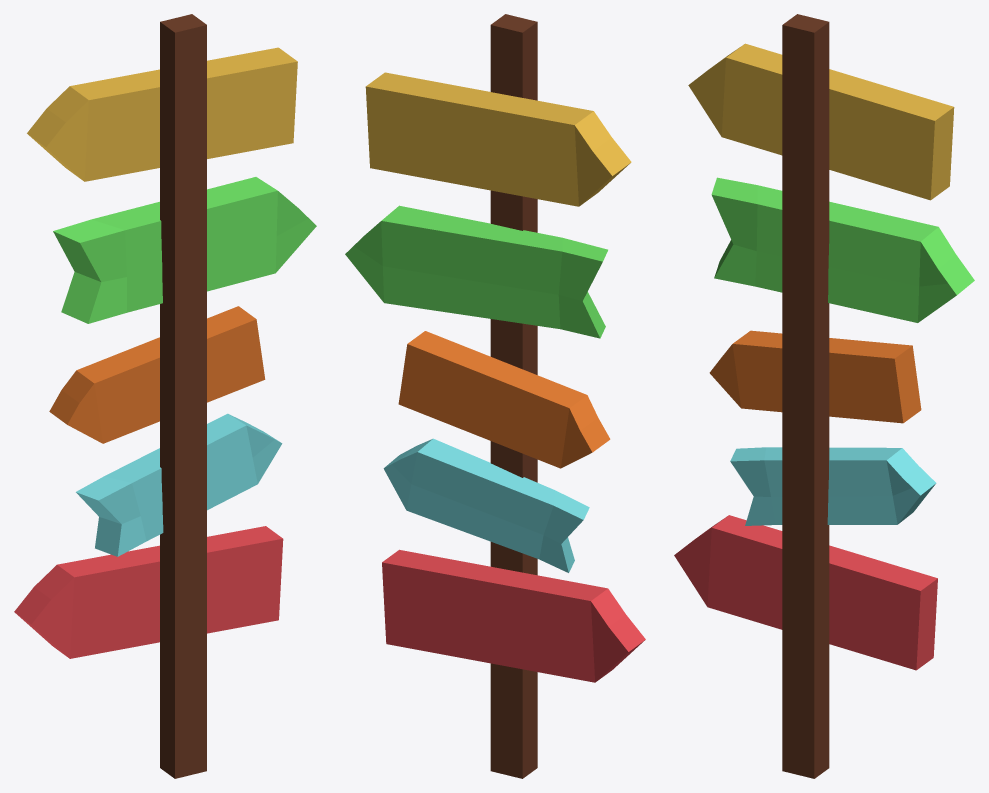
File: Letrero.fbx
The picture shows the model from 3 angles, left to right: view 1: azimuth 30°, elevation 25°; view 2: azimuth 150°, elevation 25°; view 3: azimuth 330°, elevation 25°; orthographic projection.
Visible parts, largest first — view 1: Cube; view 2: Cube; view 3: Cube.
Part boxes in pixels (bbox=[...]): Cube: bbox=[14, 14, 316, 778]; Cube: bbox=[345, 14, 645, 778]; Cube: bbox=[674, 14, 974, 778].
Bounding box in the file's own units: 4.79 × 12.01 × 1.1.
